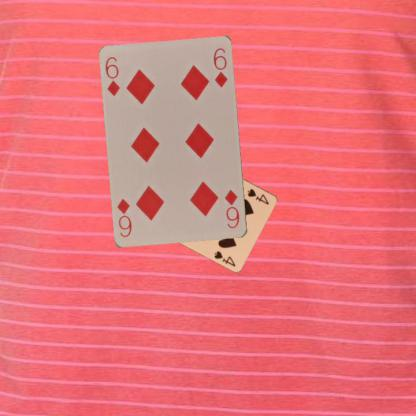4s: (245, 186, 270, 206)
6d: (222, 186, 241, 230), (103, 54, 121, 98)
